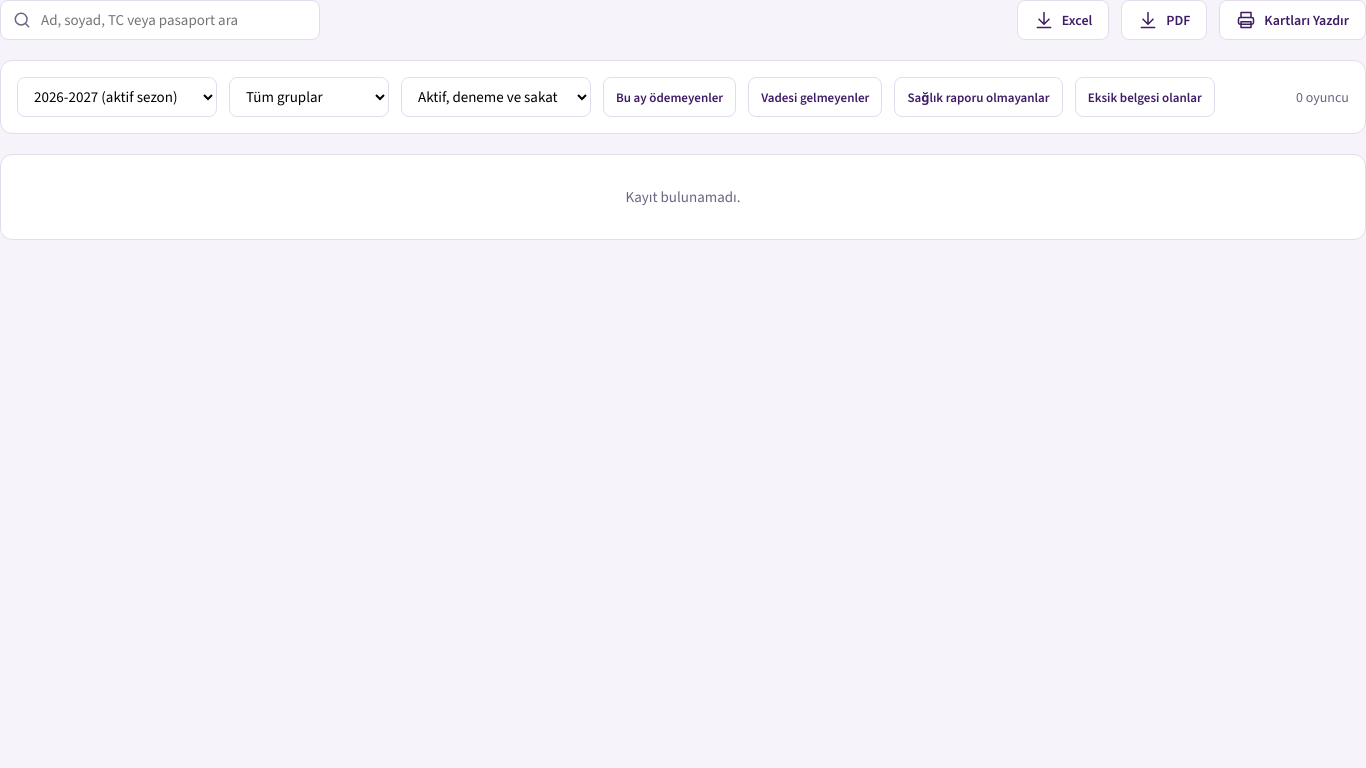
Test case: Giriş Kartları penceresi › salt okunur lisansta basım çalışır ama kayıt yazılmaz
This screenshot has width=1366, height=768.
Click the button "Kartları Yazdır" at (1293, 20), box [1219,0,1365,40]
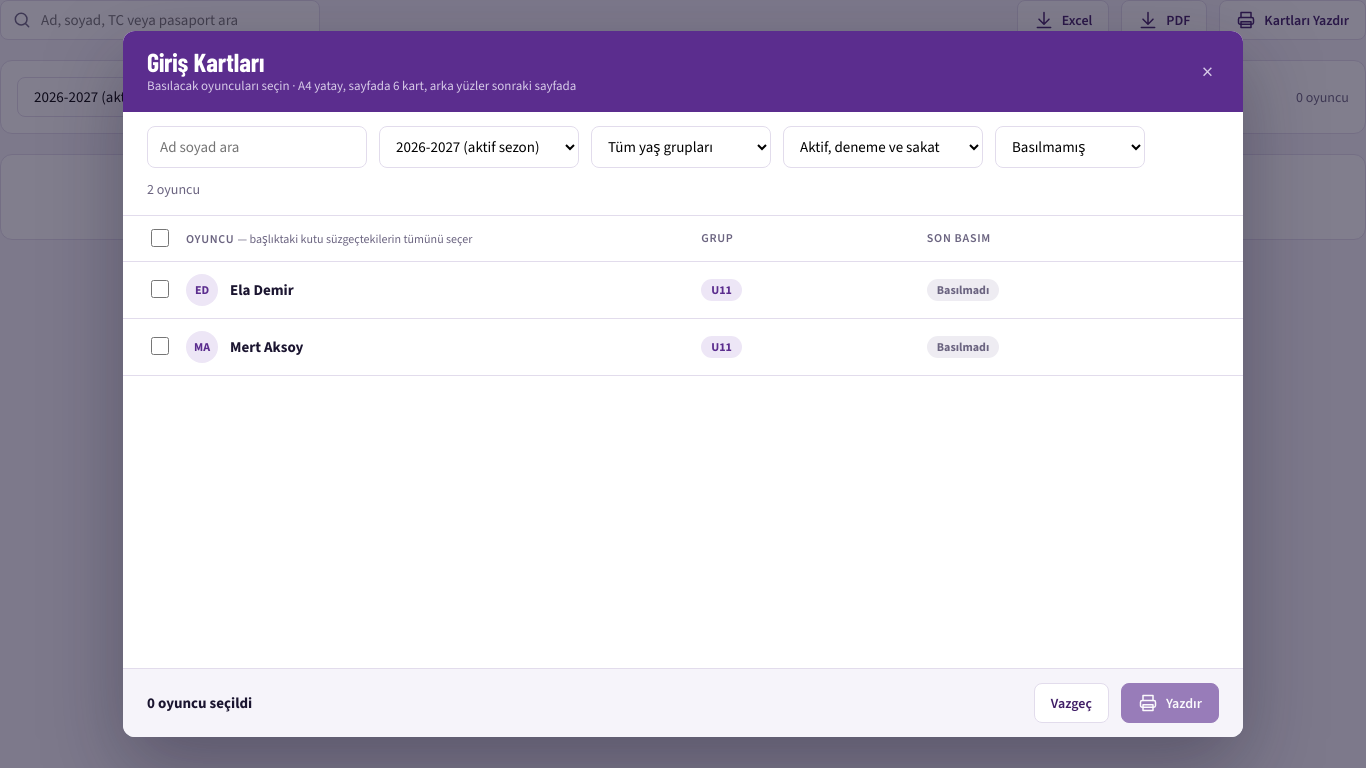
Now the text "Giriş Kartları" is shown, box [147,46,264,77]
Now the text "Ela Demir" is shown, box [230,280,294,300]
Click the checkbox named "Seç: Ela Demir" at (160, 289), box [151,280,169,298]
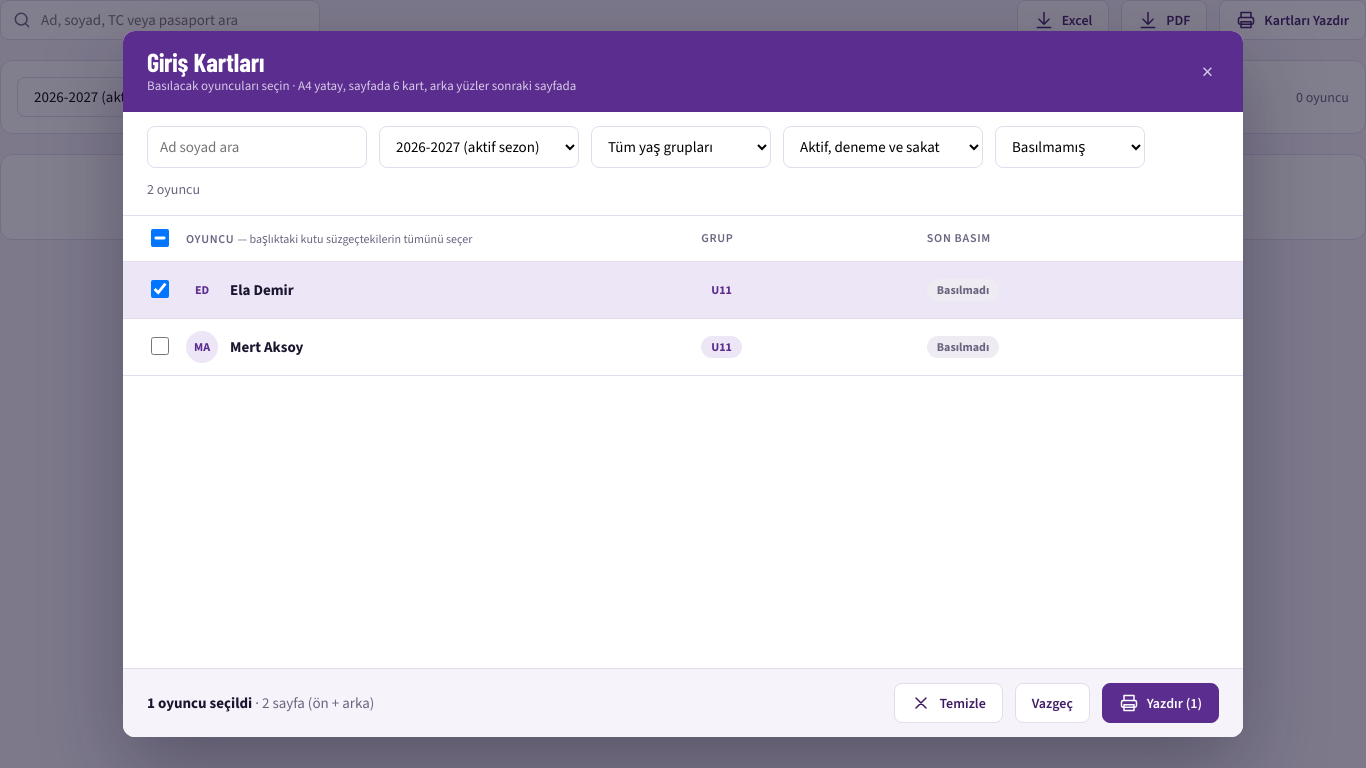
Click the button "Yazdır (1)" at (1160, 703), box [1102,683,1219,723]
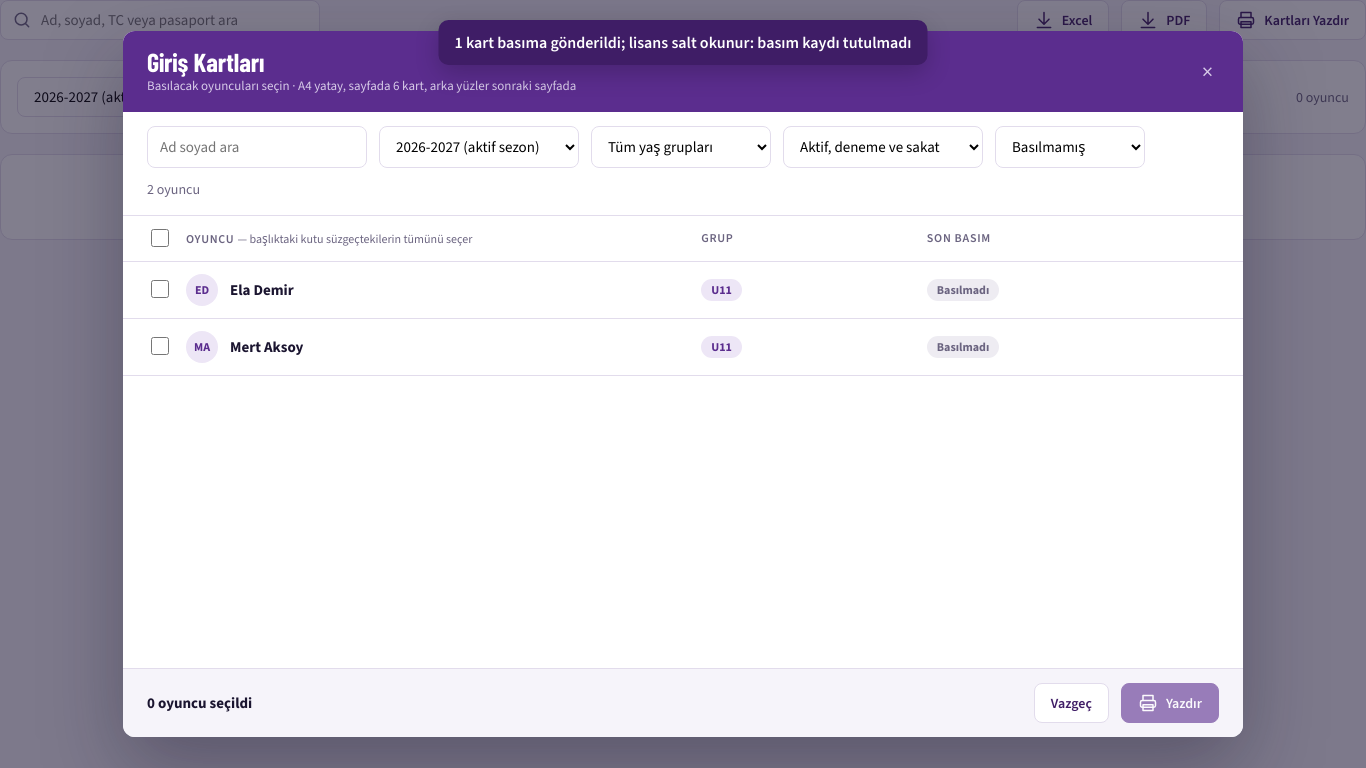
Now the text "1 kart basıma gönderildi; lisans salt okunur: basım kaydı tutulmadı" is shown, box [438,20,928,65]
